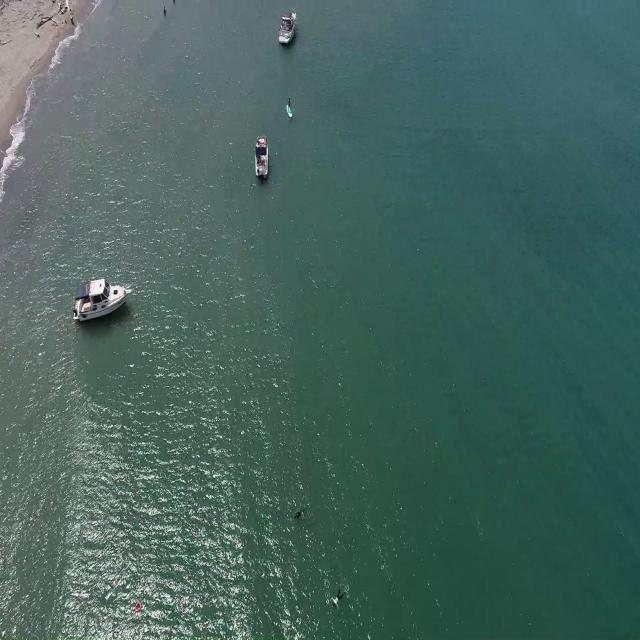boat: (75, 282, 131, 322), (254, 134, 272, 176), (278, 6, 296, 44)
life_buoy: (136, 596, 142, 609)
person: (330, 581, 346, 614), (294, 509, 308, 523), (160, 5, 168, 20), (287, 93, 293, 107)
surfboard: (285, 104, 294, 116)
